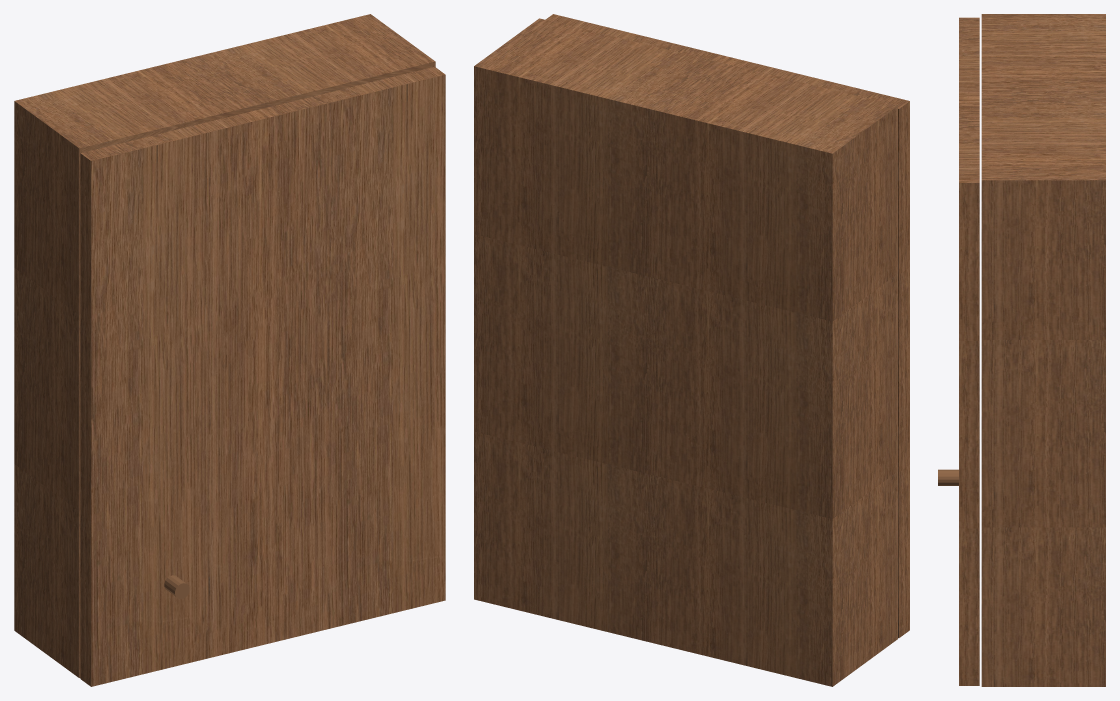
File: nyckelskåp_01.fbx
3 views of the same model, side by side, from view 1: azimuth 30°, elevation 25°; view 2: azimuth 150°, elevation 25°; view 3: azimuth 270°, elevation 25° (orthographic). The views are drawn at different scales.
Visible parts, largest first — view 1: Cabinet1_Door, Cabinet1; view 2: Cabinet1, Cabinet1_Door; view 3: Cabinet1, Cabinet1_Door, Handle.
Boxes of the visible parts, box(x1,y1,x2,y2) form: Cabinet1_Door: box(80, 66, 445, 686); Cabinet1: box(14, 14, 435, 677); Cabinet1: box(474, 18, 897, 686); Cabinet1_Door: box(545, 14, 909, 638); Cabinet1: box(981, 14, 1105, 686); Cabinet1_Door: box(959, 17, 979, 685); Handle: box(938, 469, 958, 485).
Bounding box in the file's own units: 0.19 × 0.081 × 0.27.
2 materials, 1 textured.
